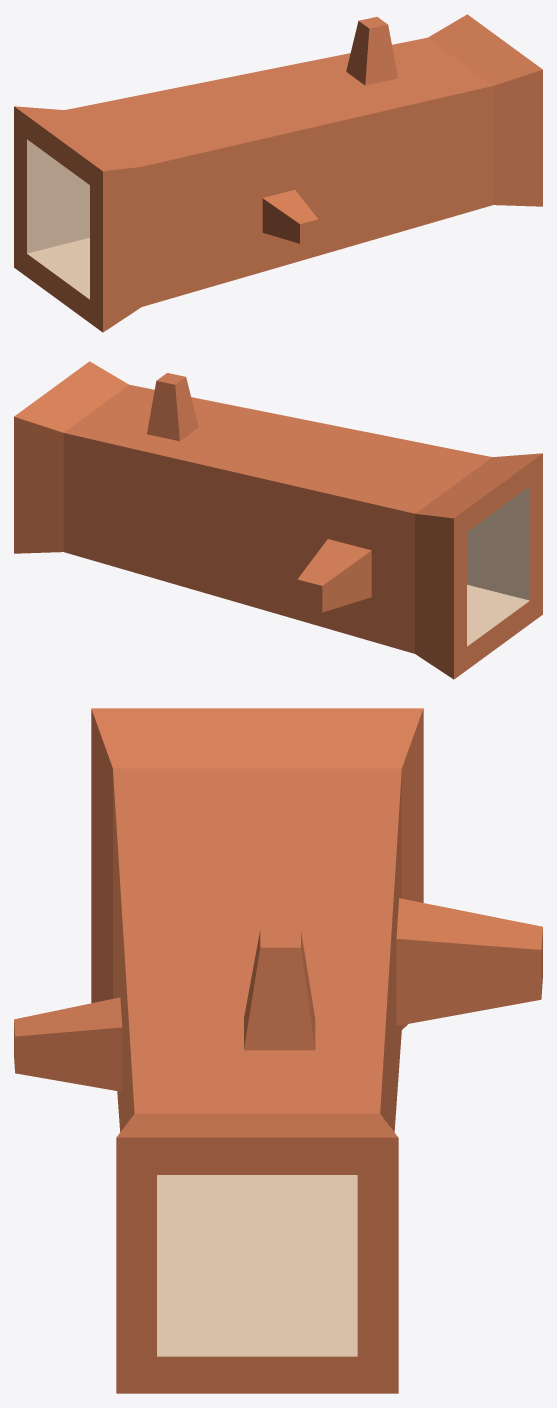
The model's file is log_large.dae.
3 views of the same model, one above another, from view 1: azimuth 30°, elevation 25°; view 2: azimuth 150°, elevation 25°; view 3: azimuth 270°, elevation 25° (orthographic). The views are drawn at different scales.
Parts seen in each view (by area): view 1: log_large; view 2: log_large; view 3: log_large.
Part boxes in pixels (x1=…): log_large: x1=14, y1=14, x2=542, y2=332; log_large: x1=14, y1=361, x2=542, y2=679; log_large: x1=14, y1=708, x2=542, y2=1393.
Size of the model in its own units: 1 by 0.4167 by 0.5493.
